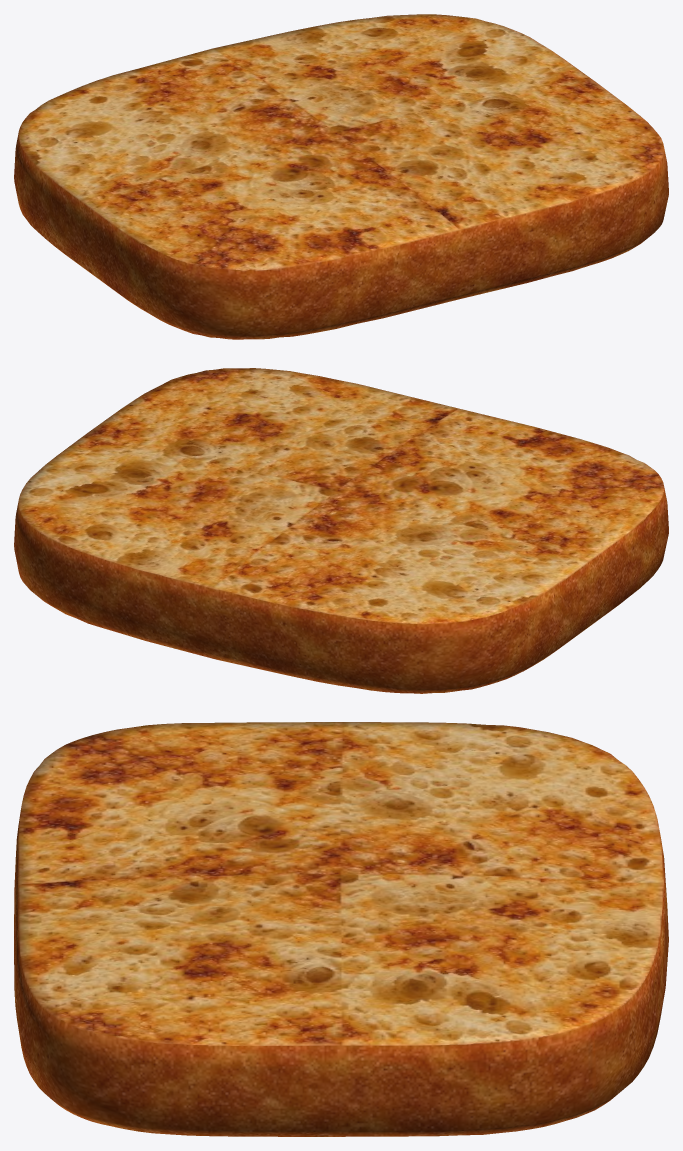
Rendered from savory-french-toast.glb.
3 views of the same model, one above another, from view 1: azimuth 30°, elevation 25°; view 2: azimuth 150°, elevation 25°; view 3: azimuth 270°, elevation 25° (orthographic). The views are drawn at different scales.
Parts seen in each view (by area): view 1: savory-french-toast; view 2: savory-french-toast; view 3: savory-french-toast.
Boxes of the visible parts, <box> form: savory-french-toast: <box>14,14,668,339</box>; savory-french-toast: <box>14,368,668,693</box>; savory-french-toast: <box>14,722,668,1136</box>.
Size of the model in its own units: 2.4 by 0.3723 by 2.02.
1 material, 1 textured.
